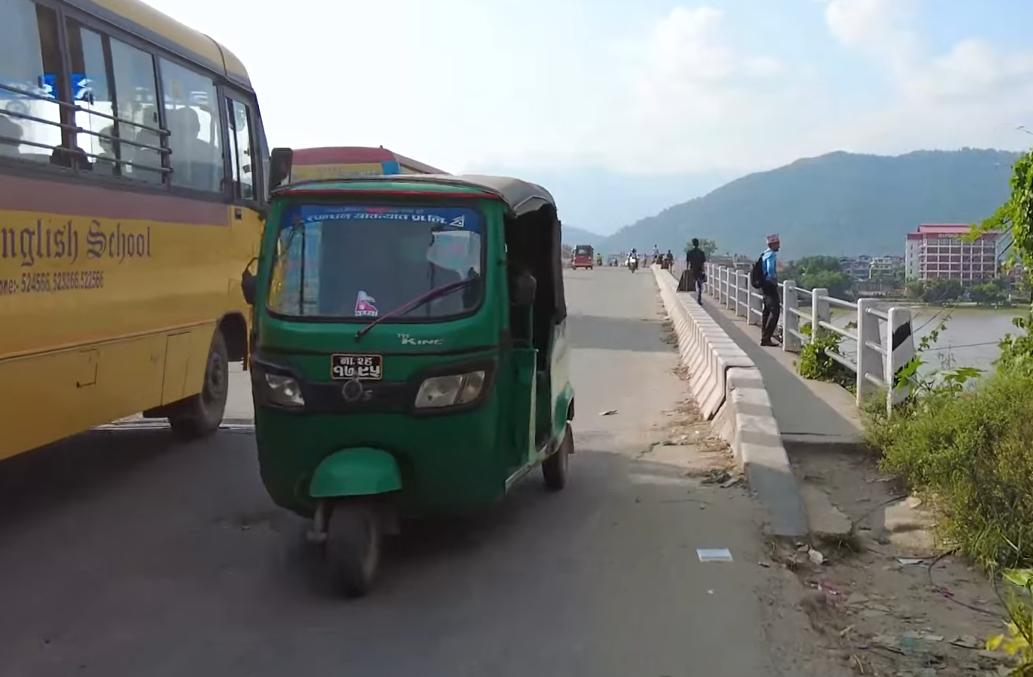auto_rickshaw: (229, 162, 595, 610), (570, 241, 597, 272)
school_bus: (0, 4, 287, 479)
